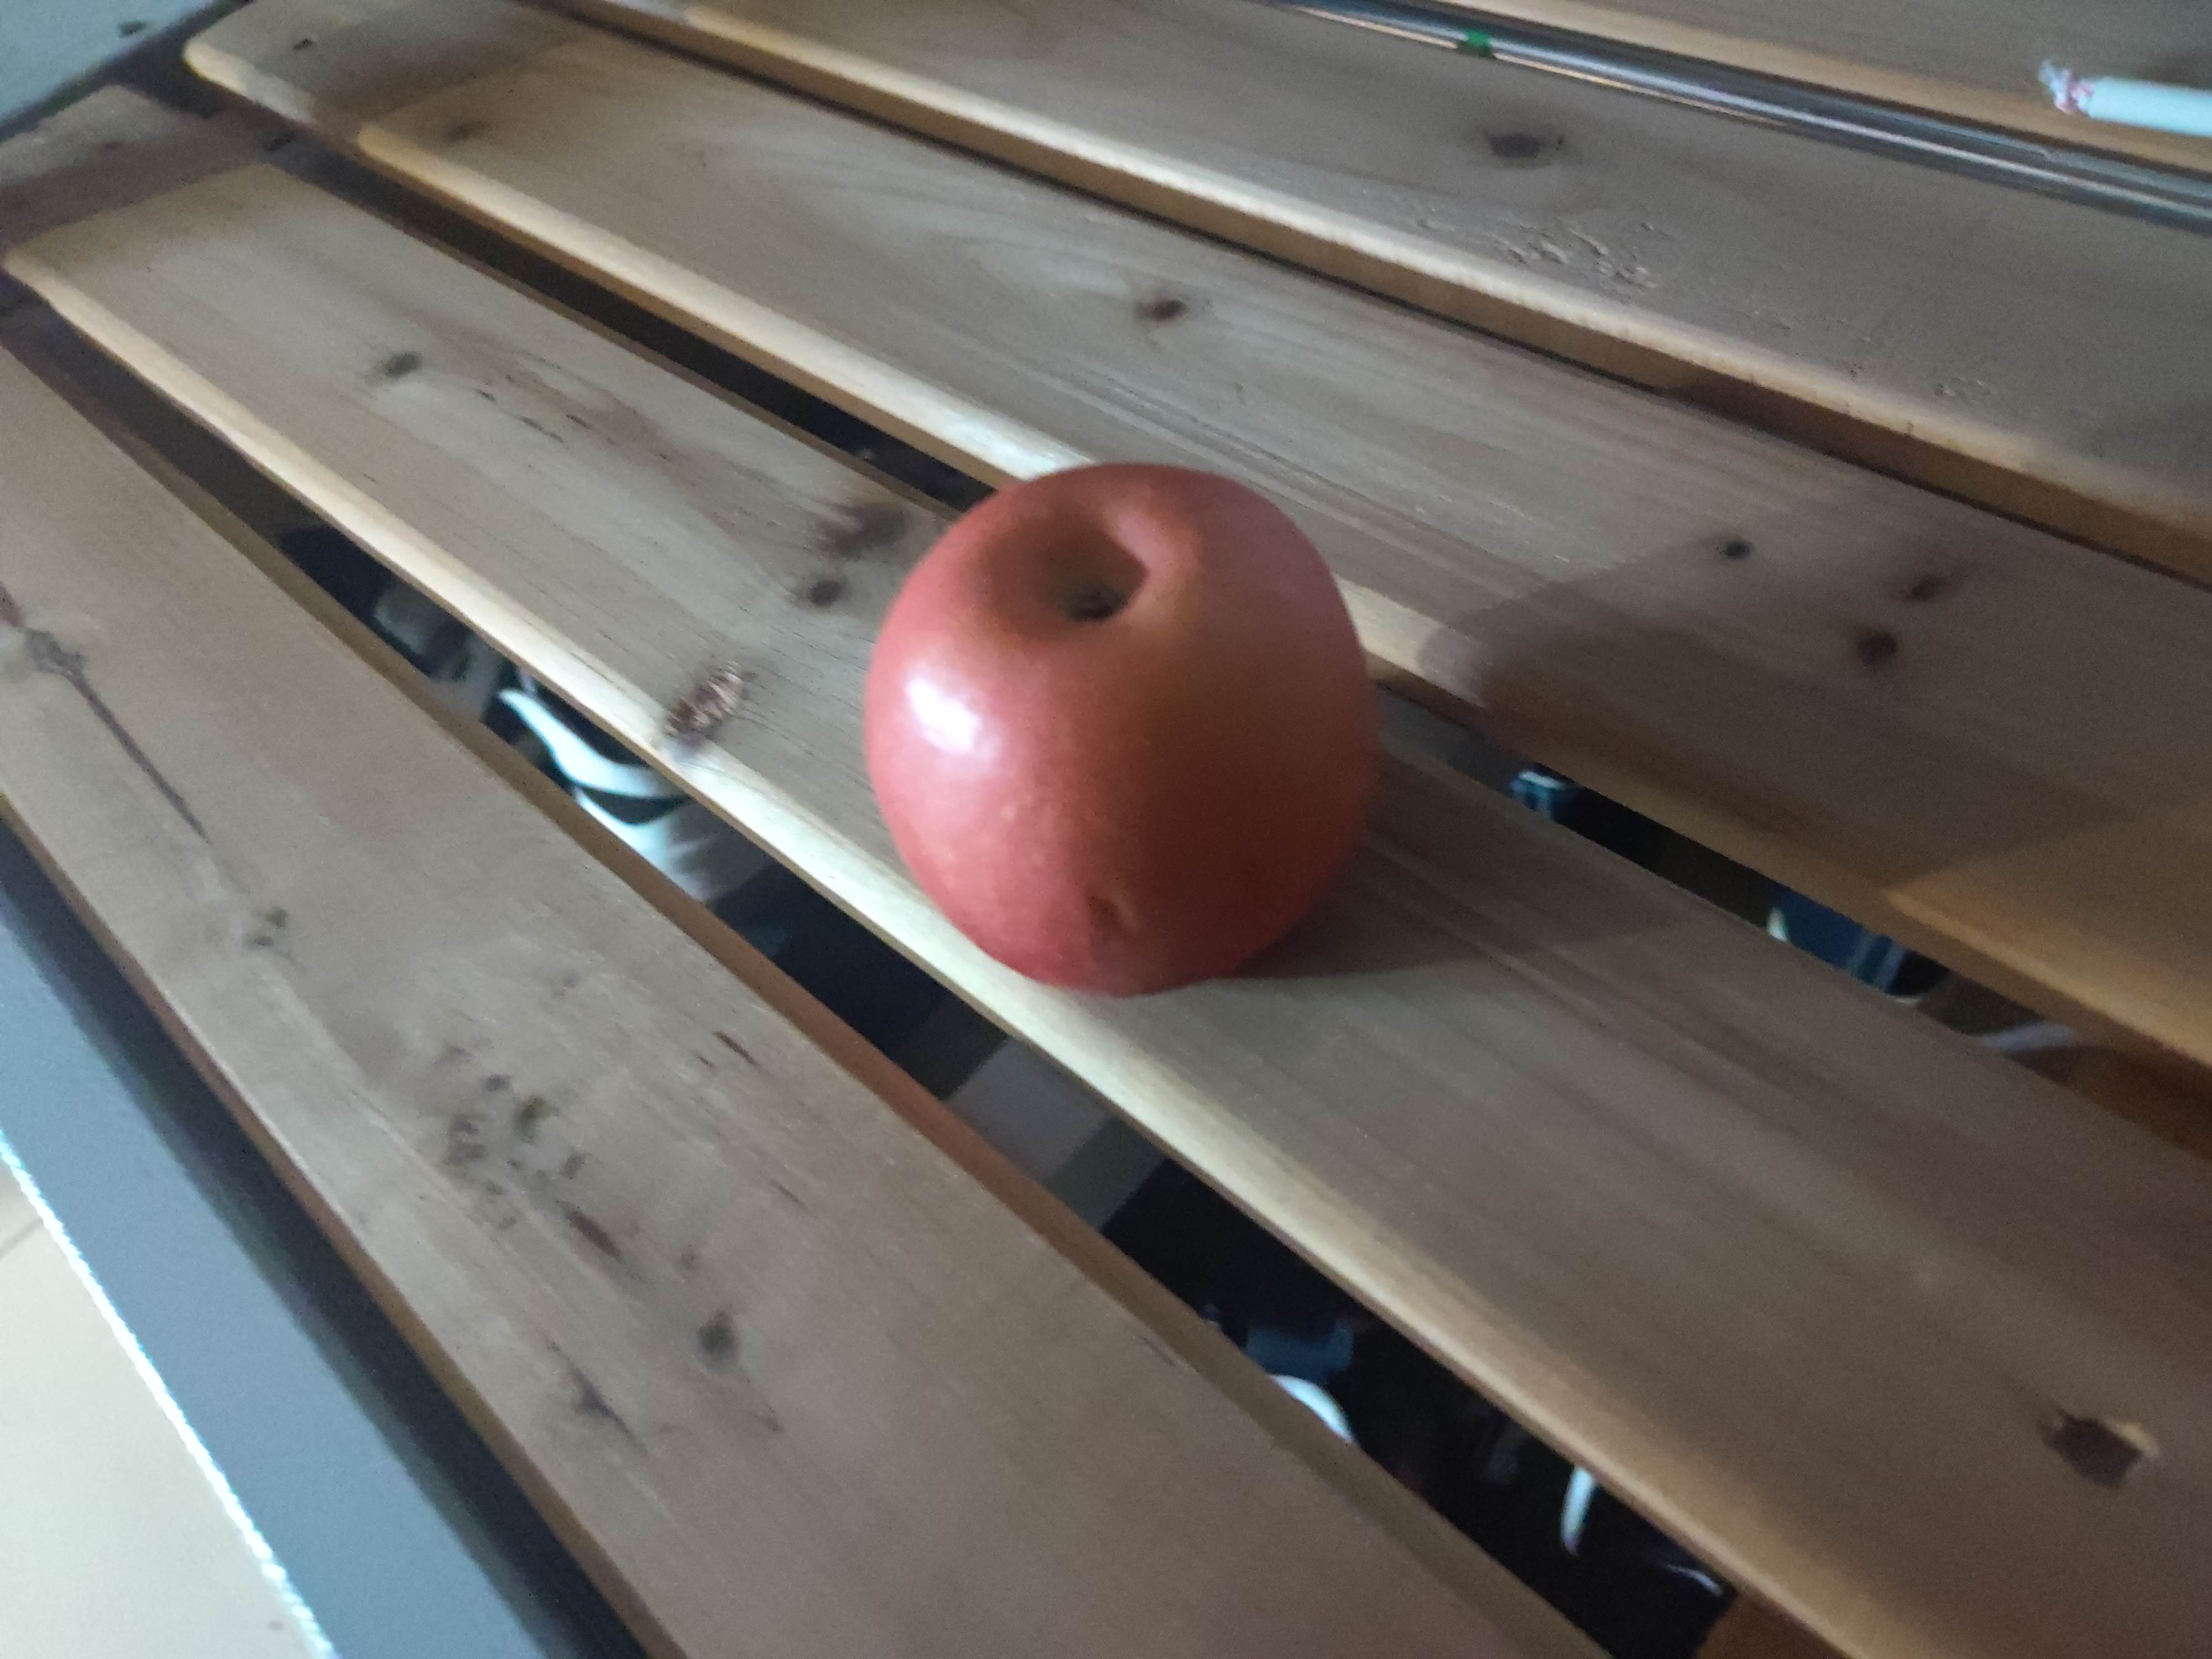apple: (866, 460, 1393, 1000)
